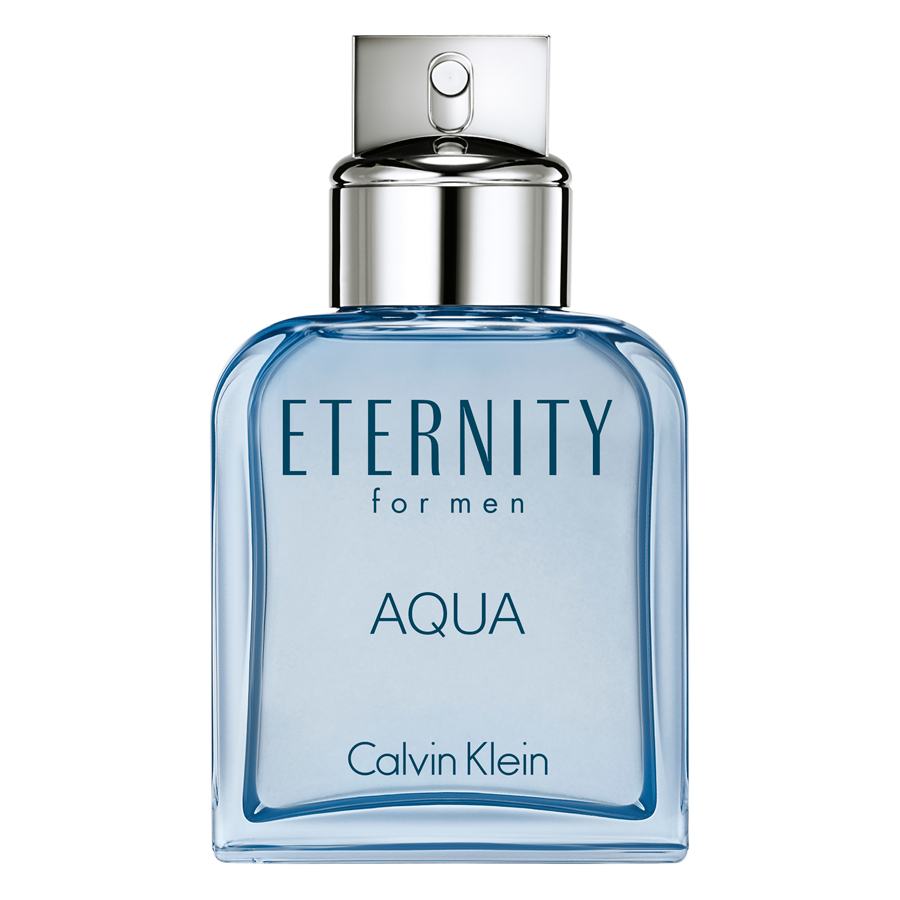Calvin Klein: (339, 729, 557, 786)
